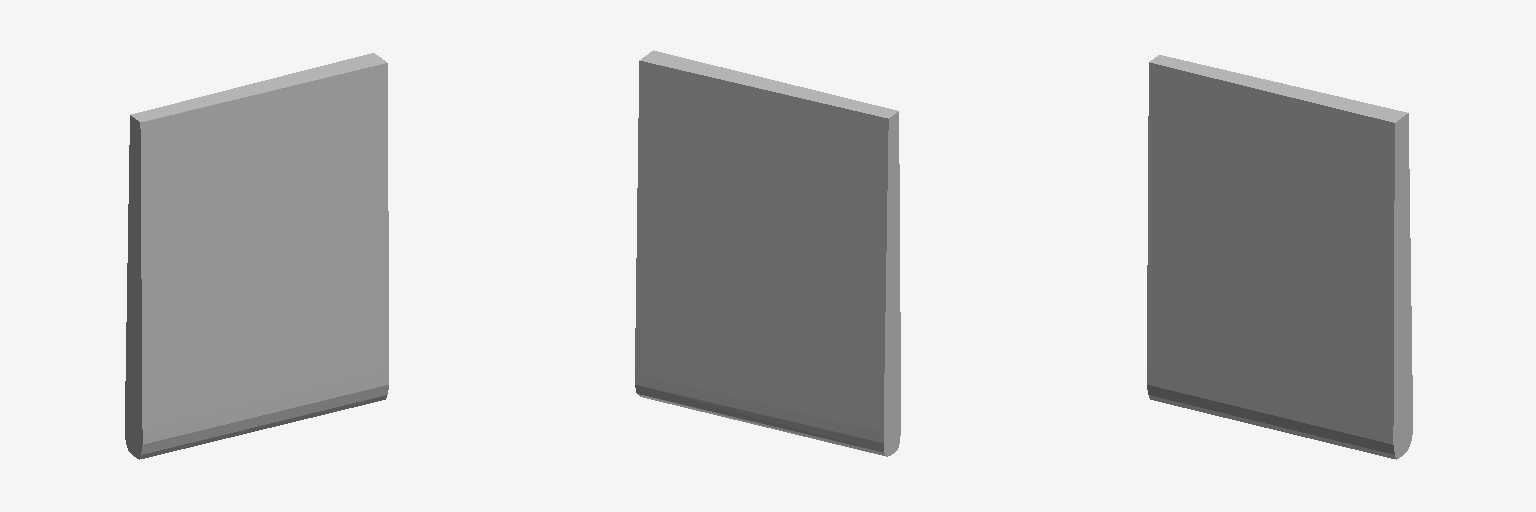
The model's file is table_collision_1.obj.
The picture shows the model from 3 angles: view 1: azimuth 30°, elevation 25°; view 2: azimuth 150°, elevation 25°; view 3: azimuth 330°, elevation 25°; orthographic projection.
Bounding box in the file's own units: 0.3701 × 0.4854 × 0.0513.